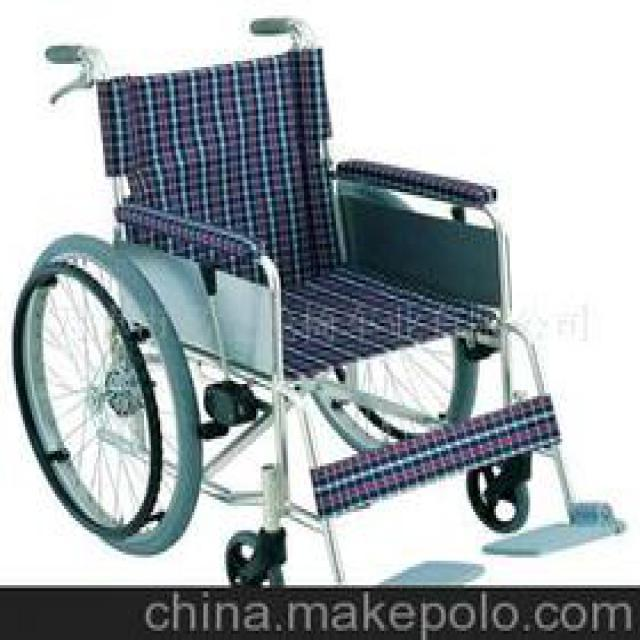wheelchair: (7, 18, 638, 582)
